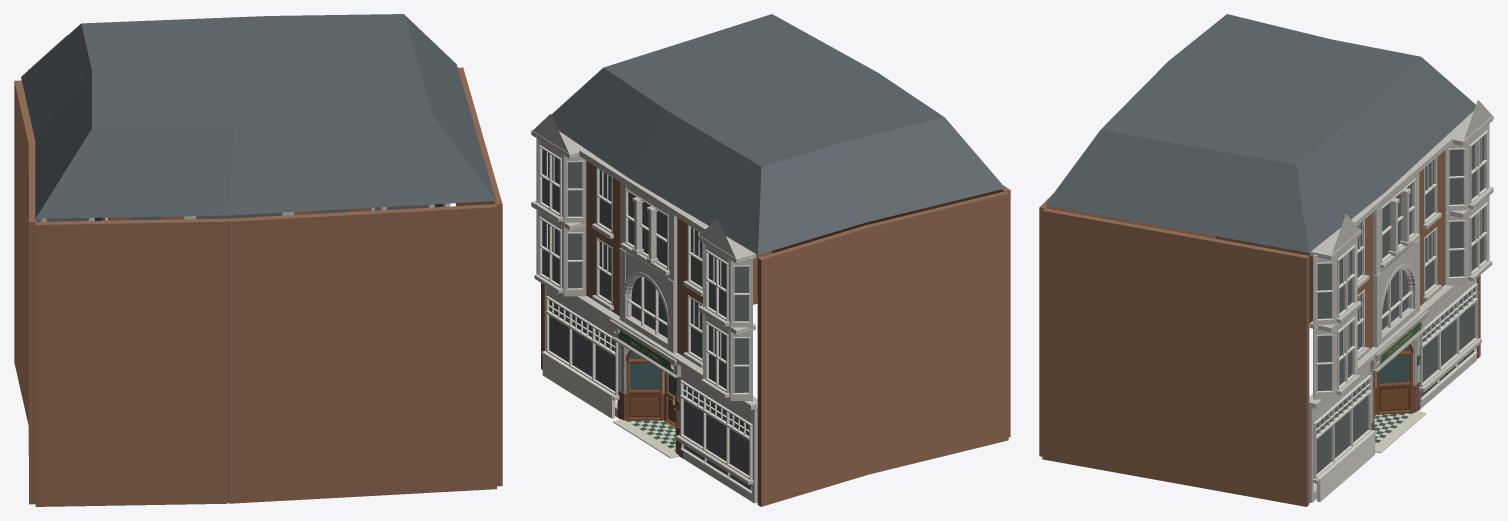
Rendered from lch-exterior-687766add536.glb.
3 views of the same model, side by side, from view 1: azimuth 30°, elevation 25°; view 2: azimuth 150°, elevation 25°; view 3: azimuth 270°, elevation 25° (orthographic). The views are drawn at different scales.
Visible parts, largest first — view 1: LCH.001; view 2: LCH.001; view 3: LCH.001.
Boxes of the visible parts, box(x1,y1,x2,y2) form: LCH.001: box(14, 14, 502, 506); LCH.001: box(531, 14, 1010, 506); LCH.001: box(1039, 14, 1493, 506).
Bounding box in the file's own units: 19.23 × 13.5 × 17.71.
